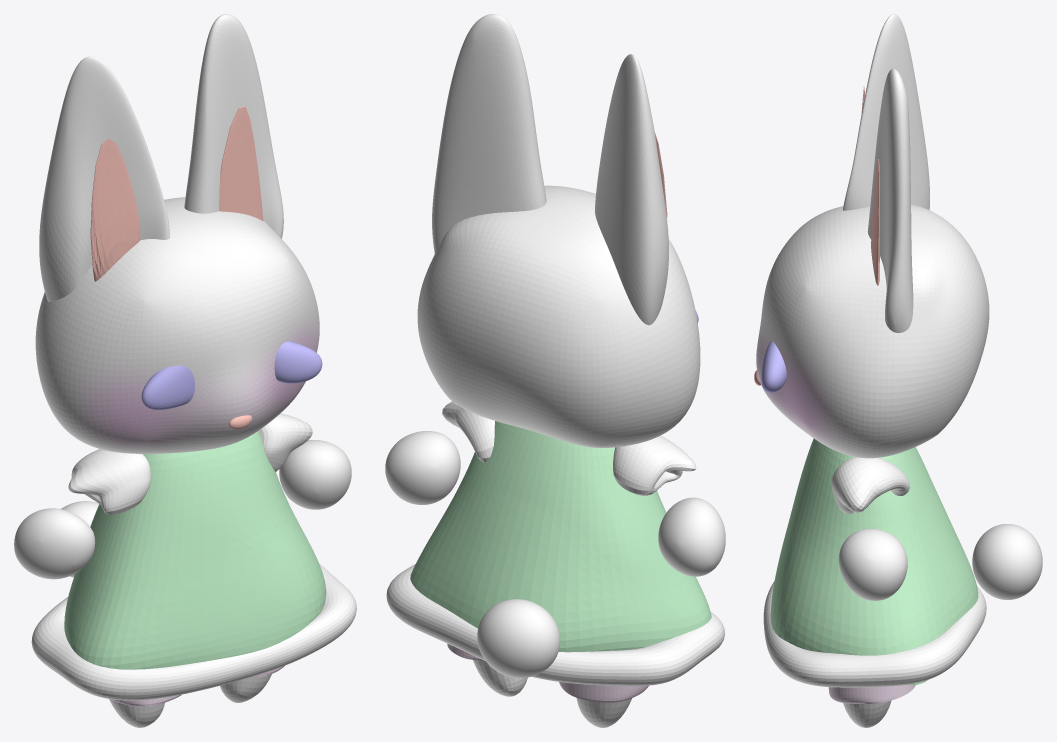
File: bunny.glb
3 views of the same model, side by side, from view 1: azimuth 30°, elevation 25°; view 2: azimuth 150°, elevation 25°; view 3: azimuth 270°, elevation 25° (orthographic). The views are drawn at different scales.
Visible parts, largest first — view 1: Quad Sphere (×2), Lathe, Ear, Tube (×2), Ear 3, Ear 2, Quad Sphere 1, Ear 1, UV Sphere 2, Tube 2, UV Sphere 1, Tube 4 (+1 smaller); view 2: Quad Sphere (×3), Lathe, Ear 3, Ear, Tube (×2), Quad Sphere 1, Tube 2, Cylinder, Tube 4, Tube 5; view 3: Quad Sphere (×3), Lathe, Tube, Ear 3, Ear, Tube 2, Cylinder 1, UV Sphere 1, Tube 5, Ear 1.
Part boxes in pixels (x1,y1,x2,y2): Quad Sphere (×2): [35, 197, 351, 509]; Lathe: [64, 431, 326, 669]; Ear: [39, 56, 169, 301]; Tube (×2): [31, 449, 356, 700]; Ear 3: [184, 14, 283, 238]; Ear 2: [90, 138, 140, 281]; Quad Sphere 1: [14, 508, 95, 579]; Ear 1: [219, 106, 263, 220]; UV Sphere 2: [141, 365, 194, 409]; Tube 2: [259, 413, 312, 471]; UV Sphere 1: [274, 341, 322, 383]; Tube 4: [109, 699, 164, 727]; Quad Sphere (×3): [385, 185, 700, 677]; Lathe: [410, 421, 711, 652]; Ear 3: [432, 14, 546, 253]; Ear: [595, 54, 668, 325]; Tube (×2): [386, 435, 724, 685]; Quad Sphere 1: [658, 497, 725, 576]; Tube 2: [442, 401, 494, 462]; Cylinder: [559, 682, 648, 702]; Tube 4: [576, 697, 632, 727]; Tube 5: [473, 660, 527, 696]; Quad Sphere (×3): [756, 204, 1042, 600]; Lathe: [770, 438, 978, 685]; Tube: [763, 581, 986, 687]; Ear 3: [867, 68, 913, 332]; Ear: [843, 14, 929, 210]; Tube 2: [831, 457, 909, 513]; Cylinder 1: [828, 684, 915, 703]; UV Sphere 1: [761, 341, 786, 392]; Tube 5: [843, 700, 891, 727]; Ear 1: [871, 159, 879, 285].
Bounding box in the file's own units: 1.08 × 2.17 × 0.8581.
